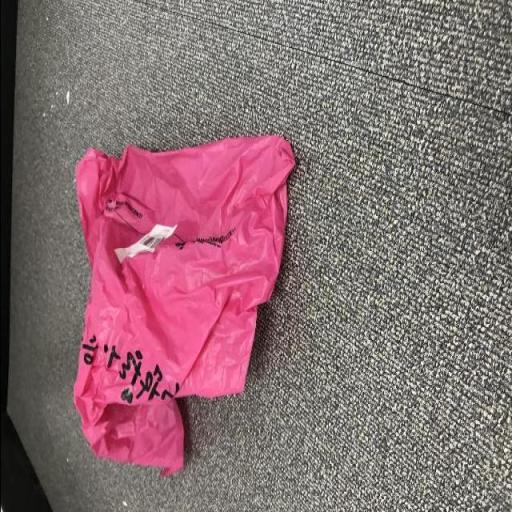plastic-bag: (68, 131, 298, 477)
